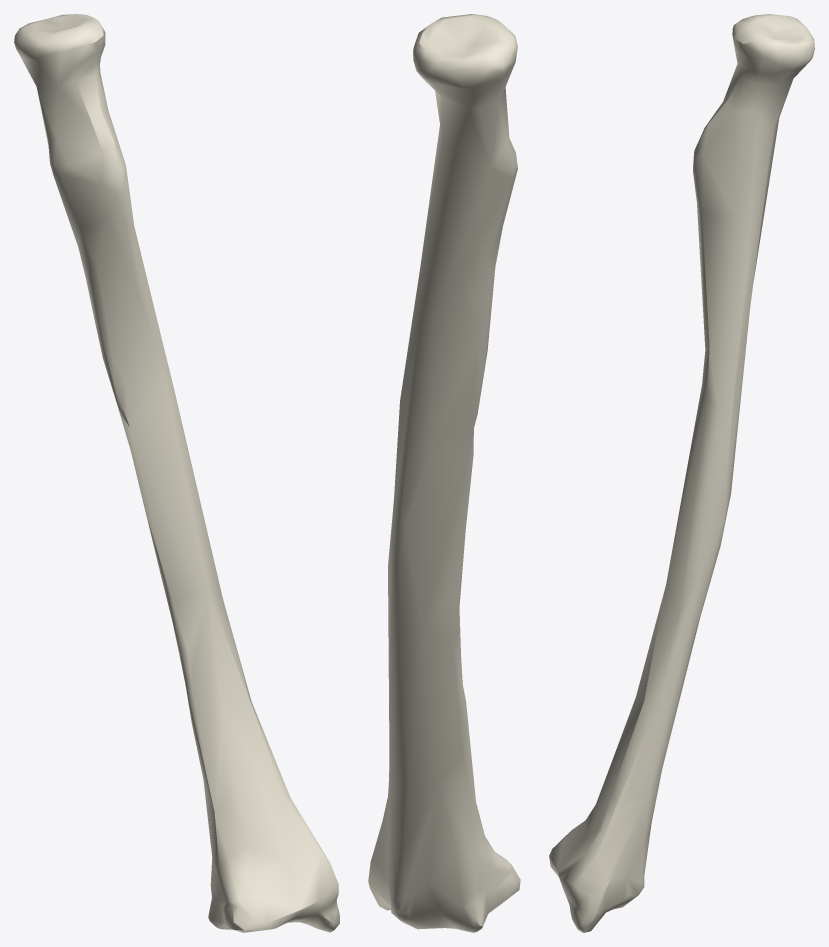
File: fma23465_fj6349.glb
The picture shows the model from 3 angles, left to right: view 1: azimuth 30°, elevation 25°; view 2: azimuth 150°, elevation 25°; view 3: azimuth 270°, elevation 25°; orthographic projection. The views are drawn at different scales.
Visible parts, largest first — view 1: FMA23465_FJ6349; view 2: FMA23465_FJ6349; view 3: FMA23465_FJ6349.
Boxes of the visible parts, x1,y1,x2,y2 form: FMA23465_FJ6349: (14, 14, 339, 932); FMA23465_FJ6349: (368, 14, 520, 932); FMA23465_FJ6349: (549, 14, 814, 932).
Size of the model in its own units: 0.0595 by 0.2288 by 0.0661.
